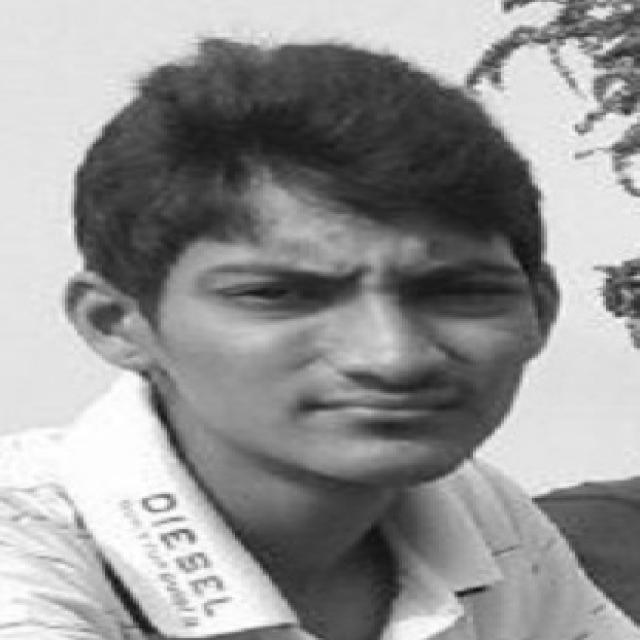without_mask: (59, 51, 597, 480)
